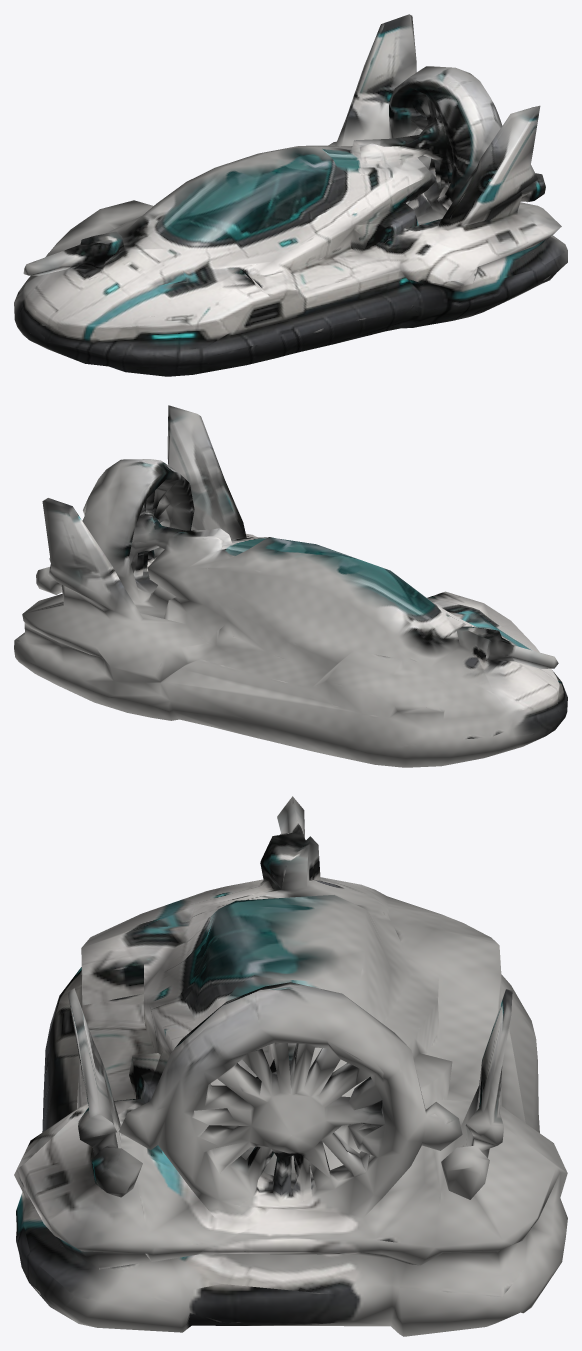
File: skink_lod2.glb
3 renders of one model, top to bottom at view 1: azimuth 30°, elevation 25°; view 2: azimuth 150°, elevation 25°; view 3: azimuth 270°, elevation 25°, orthographic. The views are drawn at different scales.
Parts seen in each view (by area): view 1: geometry_0; view 2: geometry_0; view 3: geometry_0.
Part boxes in pixels (box(x1,y1,x2,y2)): geometry_0: box(14, 14, 567, 376); geometry_0: box(14, 405, 567, 767); geometry_0: box(14, 796, 567, 1336).
Bounding box in the file's own units: 2 × 0.7751 × 1.14.
1 material, 1 textured.
